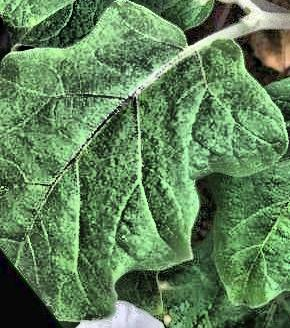HEALTHY: (1, 0, 290, 328)
